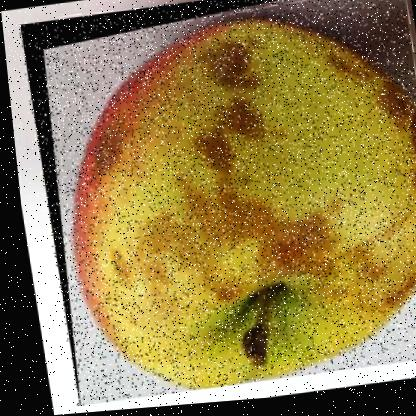apple_rotten: (12, 0, 415, 409)
